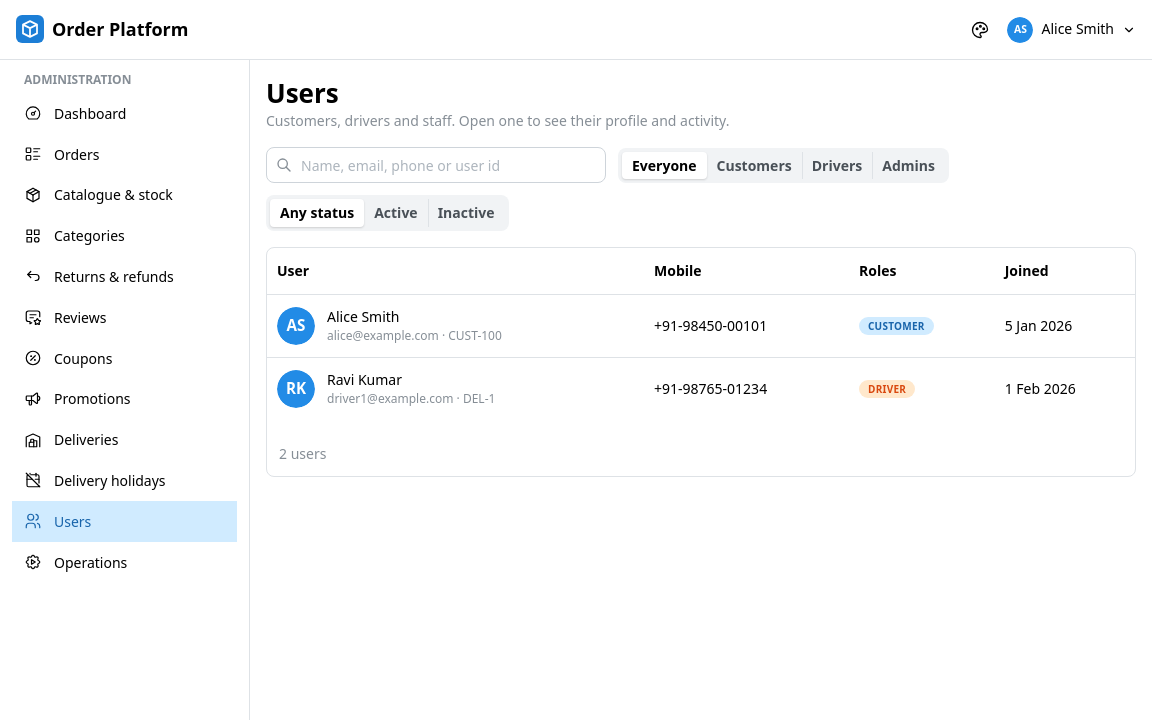
Test: admin users › lists and filters users, and opens one
Expected: the text "Alice Smith" next to "+91-98450-00101" is shown, [327, 307, 400, 326]
Expected: the text "2 users" is shown, [279, 444, 326, 464]
Click the radio button labelled "Drivers" at (837, 165), box [812, 156, 862, 174]
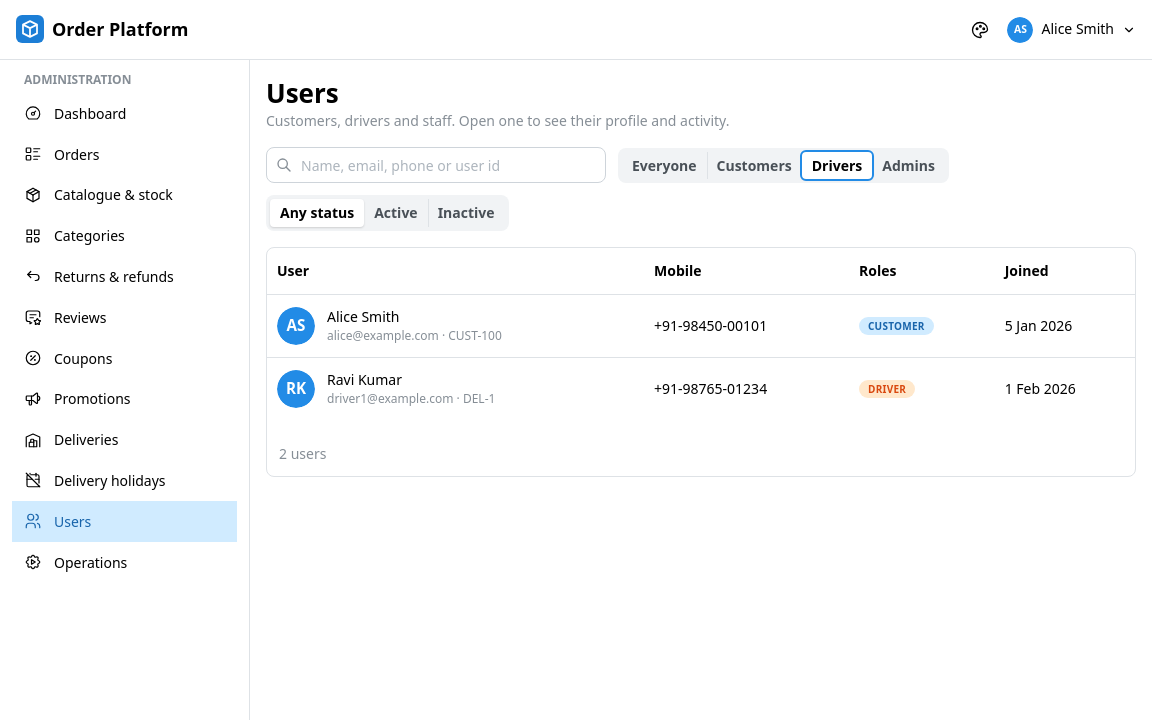
Type "ravi" into the field named "Search users" at (436, 165), box [266, 147, 606, 183]
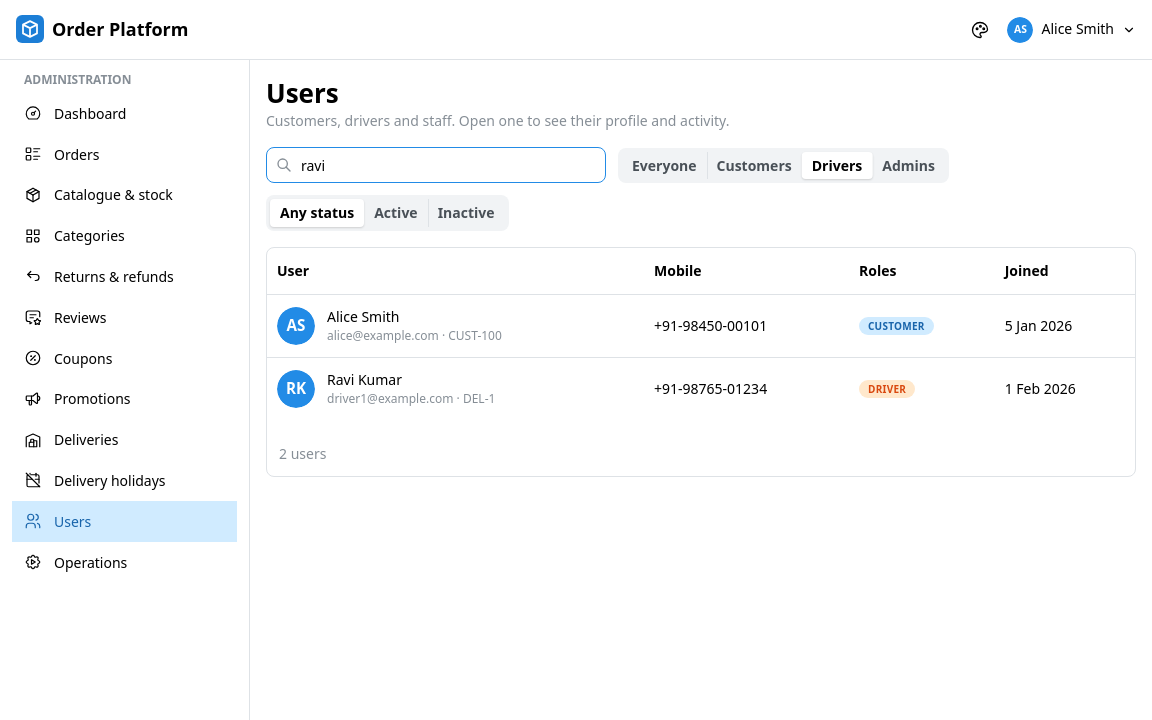
Click the text "Ravi Kumar" at (364, 380), box [327, 370, 402, 389]
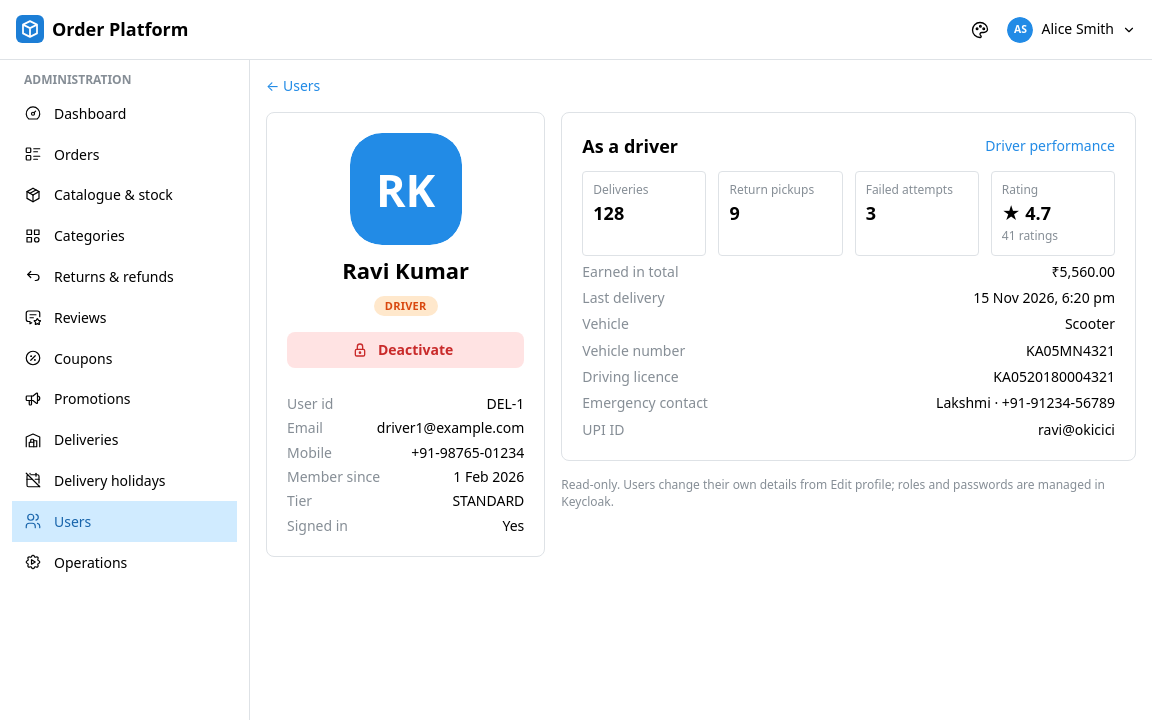
Now the heading "As a driver" is shown, box [582, 133, 678, 159]
Now the text "128" is shown, box [593, 201, 624, 225]
Now the text "★ 4.7" is shown, box [1002, 201, 1051, 225]
